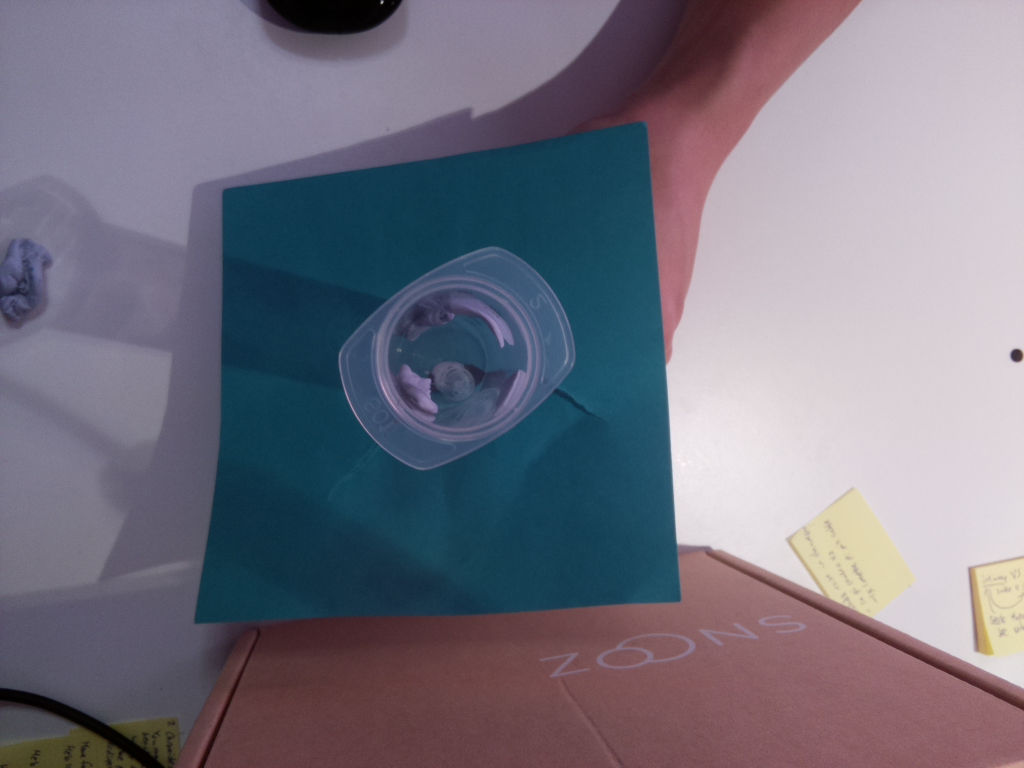dirty: (339, 244, 577, 474)
